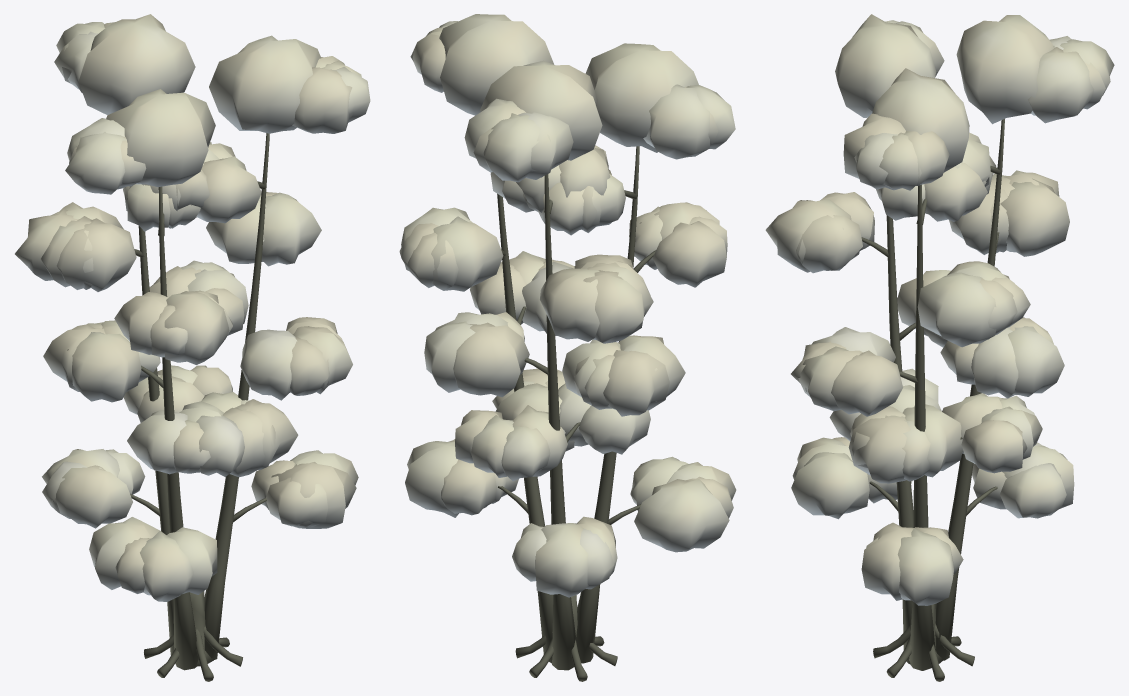
3 renders of one model, left to right at view 1: azimuth 30°, elevation 25°; view 2: azimuth 150°, elevation 25°; view 3: azimuth 270°, elevation 25°, orthographic. The views are drawn at different scales.
Visible parts, largest first — view 1: crown, trunk; view 2: crown, trunk; view 3: crown, trunk.
Part boxes in pixels (x1,y1,x2,y2): crown: (15,14,370,601); trunk: (130,133,269,681); crown: (399,14,736,597); trunk: (497,146,655,681); crown: (765,14,1114,605); trunk: (861,119,1004,681).
Size of the model in its own units: 6.41 by 12.28 by 6.16.
